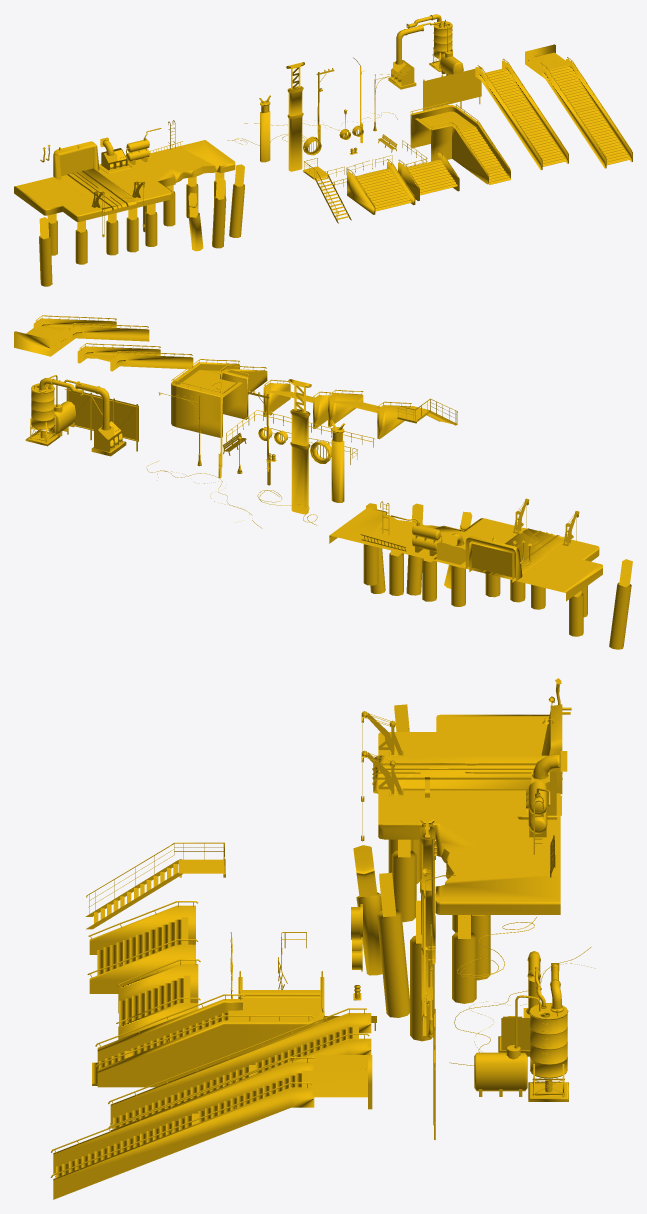
3 views of the same model, one above another, from view 1: azimuth 30°, elevation 25°; view 2: azimuth 150°, elevation 25°; view 3: azimuth 270°, elevation 25° (orthographic). The views are drawn at different scales.
Visible parts, largest first — view 1: stairs.027, stairs.009, stairs.001, stairs.002, stairs.013, stairs.004, stairs.012, stairs.003, stairs.023, stairs.005, stairs.024; view 2: stairs.027, stairs.009, stairs.013, stairs.001, stairs.023, stairs.012, stairs.002, stairs.004, stairs.003, stairs.024, stairs.005; view 3: stairs.027, stairs.001, stairs.009, stairs.013, stairs.002, stairs.004, stairs.003, stairs.005, stairs.023, stairs.020.
Part boxes in pixels (left/top/right/bottom): stairs.027: left=14, top=128, right=244, bottom=286; stairs.009: left=410, top=102, right=510, bottom=184; stairs.001: left=525, top=44, right=632, bottom=168; stairs.002: left=475, top=58, right=568, bottom=170; stairs.013: left=388, top=14, right=463, bottom=89; stairs.004: left=347, top=159, right=415, bottom=214; stairs.012: left=422, top=66, right=482, bottom=110; stairs.003: left=398, top=150, right=459, bottom=200; stairs.023: left=286, top=62, right=304, bottom=171; stairs.005: left=303, top=158, right=351, bottom=223; stairs.024: left=259, top=95, right=270, bottom=162; stairs.027: left=329, top=498, right=632, bottom=649; stairs.009: left=171, top=359, right=267, bottom=437; stairs.013: left=25, top=375, right=126, bottom=456; stairs.001: left=14, top=315, right=149, bottom=356; stairs.023: left=288, top=379, right=311, bottom=514; stairs.012: left=64, top=388, right=138, bottom=451; stairs.002: left=77, top=343, right=193, bottom=371; stairs.004: left=328, top=389, right=411, bottom=439; stairs.003: left=263, top=379, right=338, bottom=428; stairs.024: left=330, top=420, right=345, bottom=502; stairs.005: left=397, top=398, right=457, bottom=425; stairs.027: left=353, top=678, right=571, bottom=1041; stairs.001: left=50, top=1055, right=372, bottom=1199; stairs.009: left=92, top=971, right=324, bottom=1087; stairs.013: left=474, top=951, right=568, bottom=1101; stairs.002: left=108, top=1008, right=371, bottom=1130; stairs.004: left=87, top=901, right=198, bottom=993; stairs.003: left=116, top=959, right=200, bottom=1039; stairs.005: left=85, top=842, right=225, bottom=929; stairs.023: left=420, top=777, right=434, bottom=1000; stairs.020: left=422, top=838, right=437, bottom=987.
Size of the model in its own units: 6334 by 1856 by 2951.
